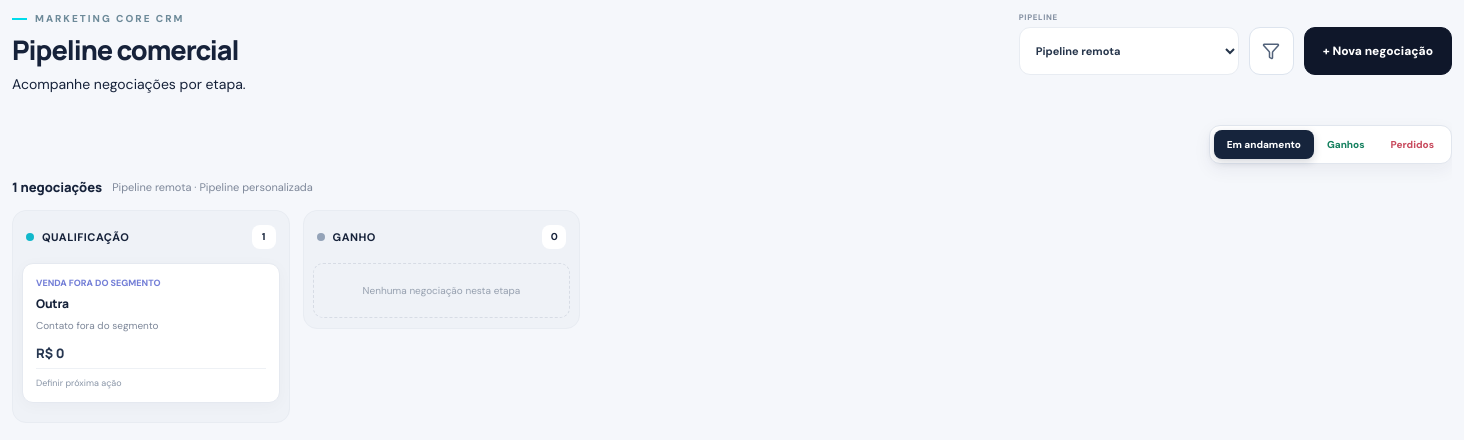
Scenario: authenticated pages use only the remote snapshot › shows lost deals in the stage where they were lost
Click the button "Perdidos" at (1412, 144), box [1378,130,1447,159]
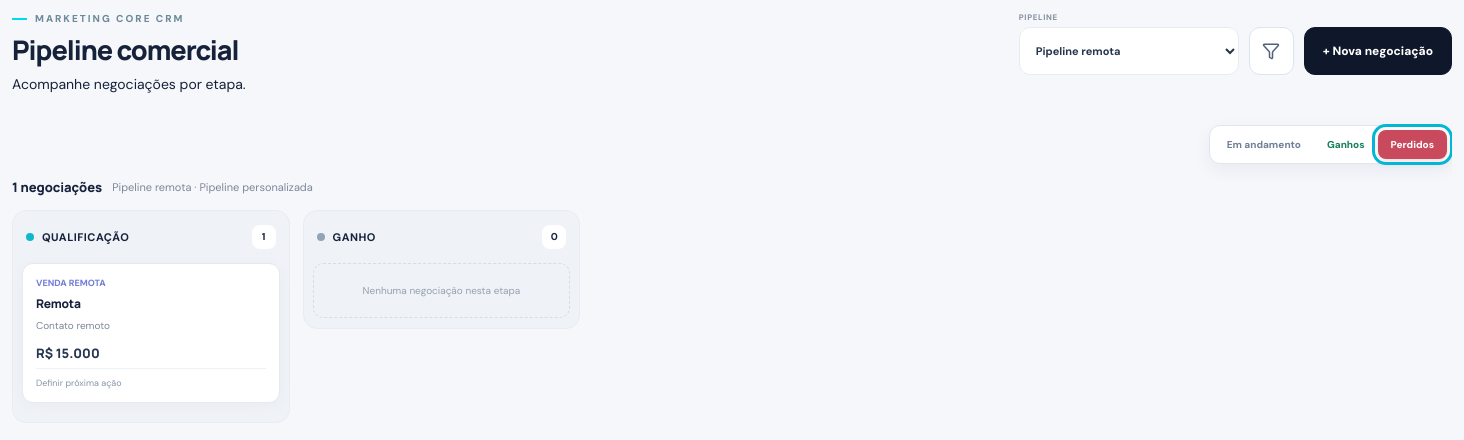
Check: the button with test id "deal-card-deal-1" is shown, box [22,263,280,403]
Check: the button with test id "deal-card-deal-2" is gone
